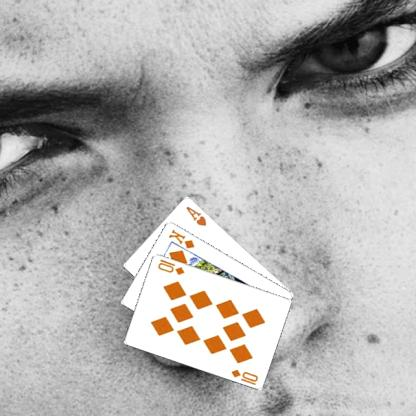10D: (157, 256, 188, 276), (230, 366, 261, 386)
AH: (185, 203, 210, 227)
KD: (168, 226, 198, 250)
